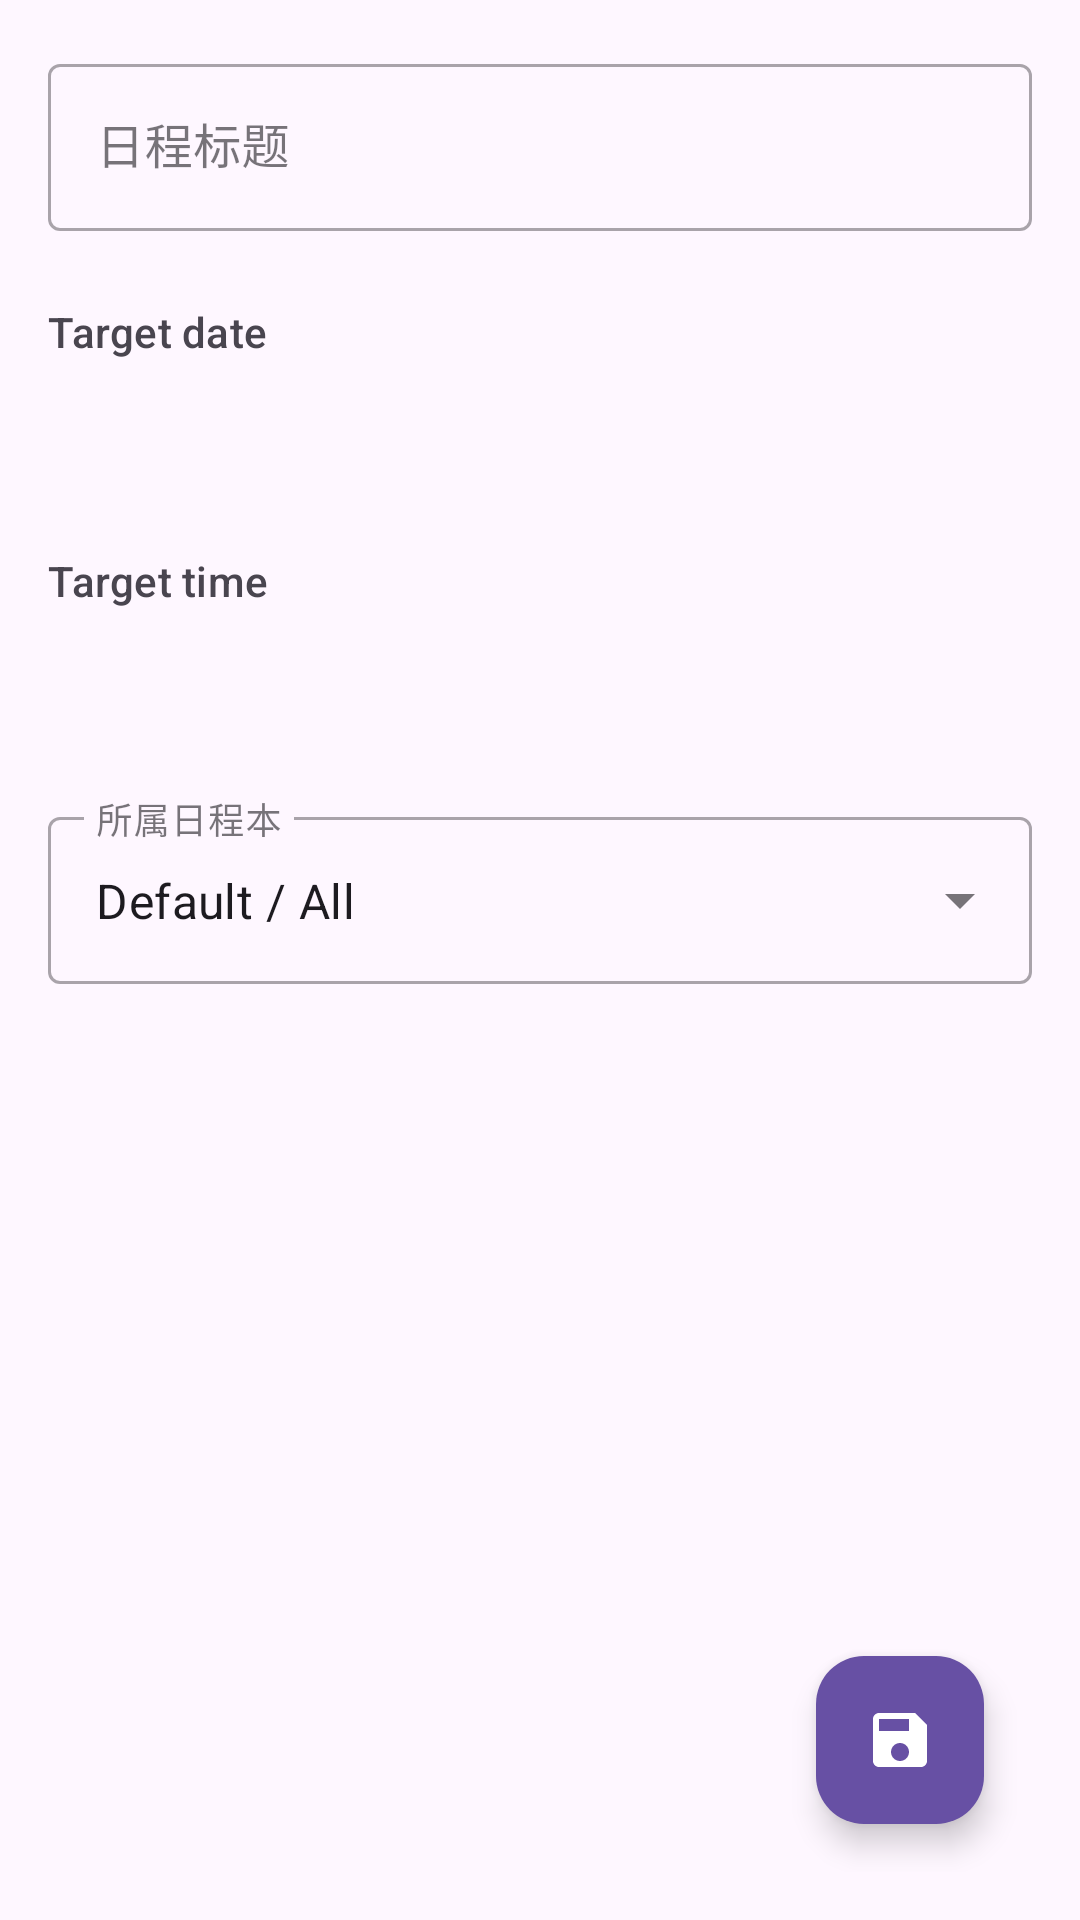

Icons on this 1080px x 1920px Android screen, each with the point to tap as (x,y):
Save event: (900,1740)
